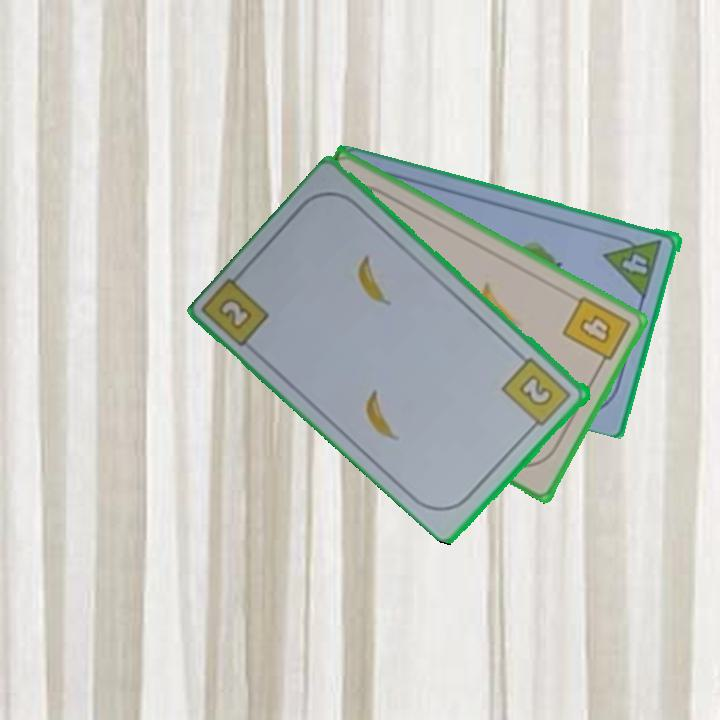2b: (499, 354, 575, 434), (215, 294, 256, 333)
4b: (558, 292, 634, 373)
4p: (602, 229, 666, 299)
